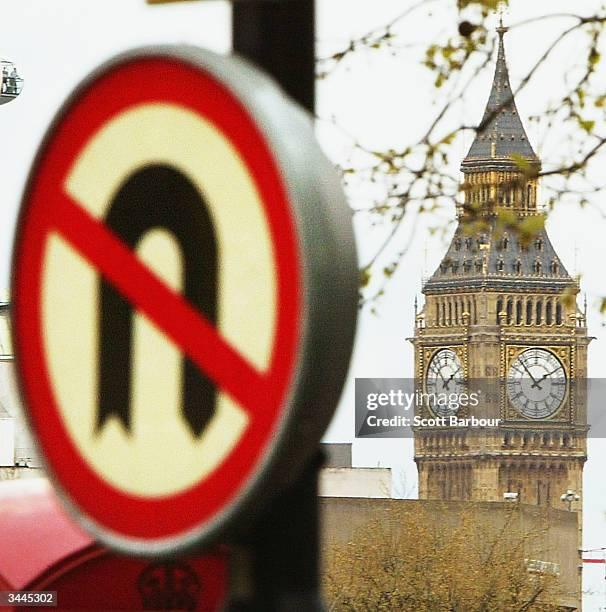no-u-turn: (17, 57, 302, 550)
